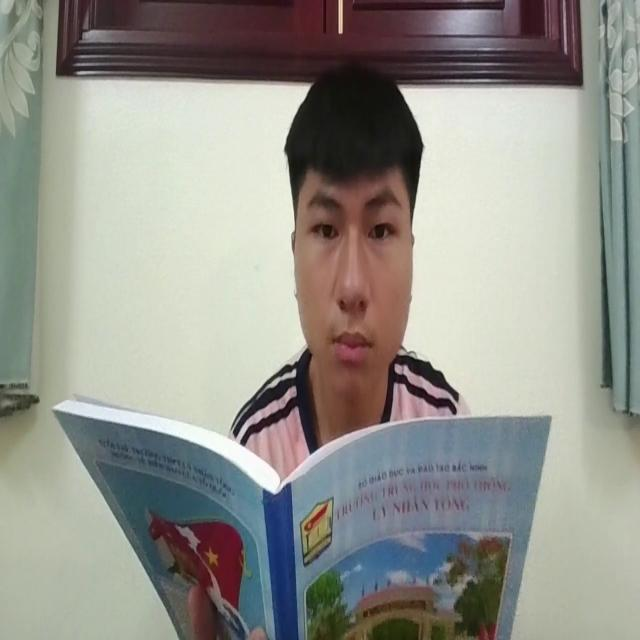book: (46, 384, 550, 640)
student: (202, 57, 479, 446)
